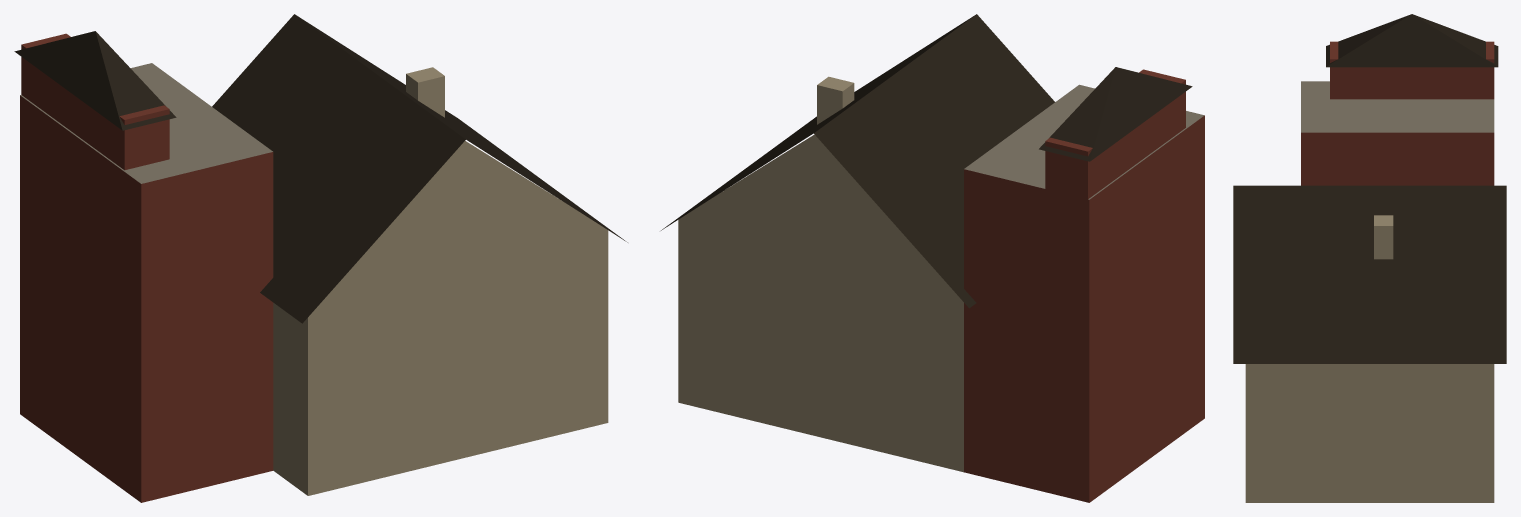
File: ns-cottage-tower.towns-v1.lod2.glb
The picture shows the model from 3 angles, left to right: view 1: azimuth 30°, elevation 25°; view 2: azimuth 150°, elevation 25°; view 3: azimuth 270°, elevation 25°; orthographic projection. The views are drawn at different scales.
Parts seen in each view (by area): view 1: ns-cottage-tower; view 2: ns-cottage-tower; view 3: ns-cottage-tower.
Boxes of the visible parts, <box> form: ns-cottage-tower: <box>14,14,627,502</box>; ns-cottage-tower: <box>661,14,1204,502</box>; ns-cottage-tower: <box>1233,14,1506,502</box>.
Bounding box in the file's own units: 14.95 × 13.21 × 9.9.
